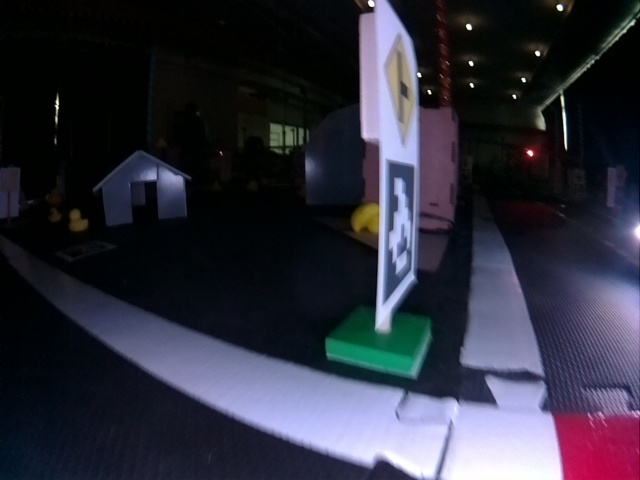Duckie: (350, 205, 380, 232), (69, 209, 86, 228), (49, 207, 63, 223)
Intersection sign: (384, 34, 415, 148)
QR code: (384, 158, 414, 304)
